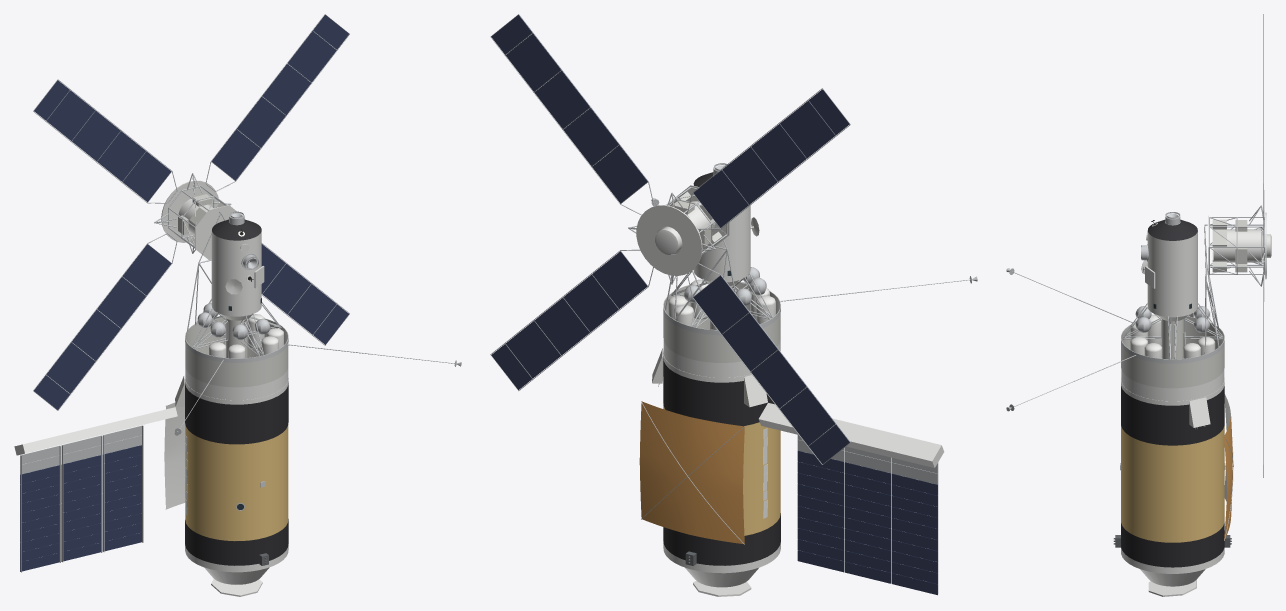
Rendered from workshop.lod2.glb.
The picture shows the model from 3 angles, left to right: view 1: azimuth 30°, elevation 25°; view 2: azimuth 150°, elevation 25°; view 3: azimuth 270°, elevation 25°; orthographic projection. The views are drawn at different scales.
Visible parts, largest first — view 1: SAS_Wing1_Cells, OWS_HabitationWall, OWS_AftSkirtInner, ATM_Wing_3_Cells, ATM_Wing_1_Cells, ATM_Wing_4_Cells, ATM_Wing_2_Cells, SAS_Wing1_Structure, FAS_InnerWallAndForwardDome, MDA_EarthObservationKit, ATM_Canister, Parasol_Underside (+12 smaller); view 2: SAS_Wing1_Cells, Parasol_Canopy, ATM_Wing_3_Cells, ATM_Wing_1_Cells, ATM_Wing_2_Cells, ATM_Wing_4_Cells, OWS_AftSkirtInner, ATM_Canister, OWS_HabitationWall, SAS_Wing1_BeamFairing, FAS_InnerWallAndForwardDome, SAS_Wing1_Structure (+12 smaller); view 3: OWS_HabitationWall, OWS_AftSkirtInner, FAS_InnerWallAndForwardDome, MDA_EarthObservationKit, ATM_Canister, AM_Bellows, FAS_OxygenTanks, IU_Skin, OWS_SkirtBands, ATM_Outriggers, OWS_RefrigerationRadiator, ATM_RackEquipment (+7 smaller).
Boxes of the visible parts, x1,y1,x2,y2 form: SAS_Wing1_Cells: (20, 445, 141, 571); OWS_HabitationWall: (185, 425, 288, 541); OWS_AftSkirtInner: (185, 383, 288, 565); ATM_Wing_3_Cells: (34, 244, 171, 409); ATM_Wing_1_Cells: (211, 15, 348, 180); ATM_Wing_4_Cells: (34, 80, 171, 202); ATM_Wing_2_Cells: (261, 244, 348, 344); SAS_Wing1_Structure: (20, 425, 143, 572); FAS_InnerWallAndForwardDome: (185, 316, 288, 387); MDA_EarthObservationKit: (211, 230, 264, 299); ATM_Canister: (161, 180, 238, 259); Parasol_Underside: (164, 402, 185, 509); SAS_Wing1_Cells: (797, 450, 937, 595); Parasol_Canopy: (639, 401, 744, 543); ATM_Wing_3_Cells: (693, 275, 849, 464); ATM_Wing_1_Cells: (491, 15, 647, 203); ATM_Wing_2_Cells: (491, 251, 647, 389); ATM_Wing_4_Cells: (693, 89, 849, 227); OWS_AftSkirtInner: (663, 358, 780, 565); ATM_Canister: (636, 185, 729, 275); OWS_HabitationWall: (663, 403, 780, 535); SAS_Wing1_BeamFairing: (758, 403, 944, 467); FAS_InnerWallAndForwardDome: (663, 282, 780, 362); SAS_Wing1_Structure: (797, 435, 938, 593); OWS_HabitationWall: (1121, 426, 1224, 542); OWS_AftSkirtInner: (1121, 386, 1224, 567); FAS_InnerWallAndForwardDome: (1121, 316, 1224, 388); MDA_EarthObservationKit: (1141, 231, 1197, 300); ATM_Canister: (1208, 212, 1271, 279); AM_Bellows: (1122, 303, 1222, 359); FAS_OxygenTanks: (1130, 314, 1215, 358); IU_Skin: (1121, 369, 1224, 401); OWS_SkirtBands: (1121, 382, 1224, 573); ATM_Outriggers: (1209, 205, 1264, 286); OWS_RefrigerationRadiator: (1140, 569, 1205, 596); ATM_RackEquipment: (1212, 219, 1247, 272).
Size of the model in its own units: 26.73 by 35.71 by 16.89.
